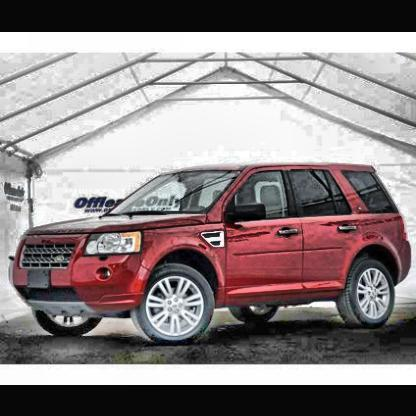Land Rover LR2 SUV 2012: (8, 160, 416, 348)
